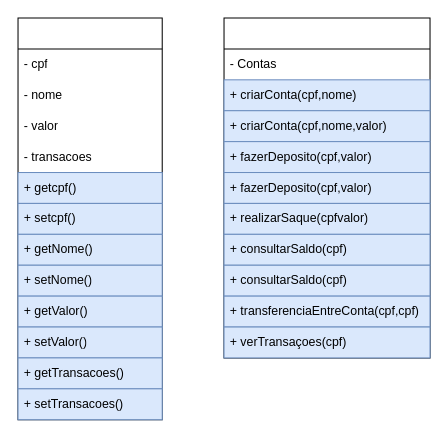
The diagram is 448 pixels wide and 438 high, and some of its shapes have lost their labels. The shapes that lost their labels are listed below. From the top down, each one's box as (x1, y1, x2, y2) in pixels, then its label:
(223, 17, 430, 358): Sistesma_Bancario
(17, 17, 162, 420): Conta
